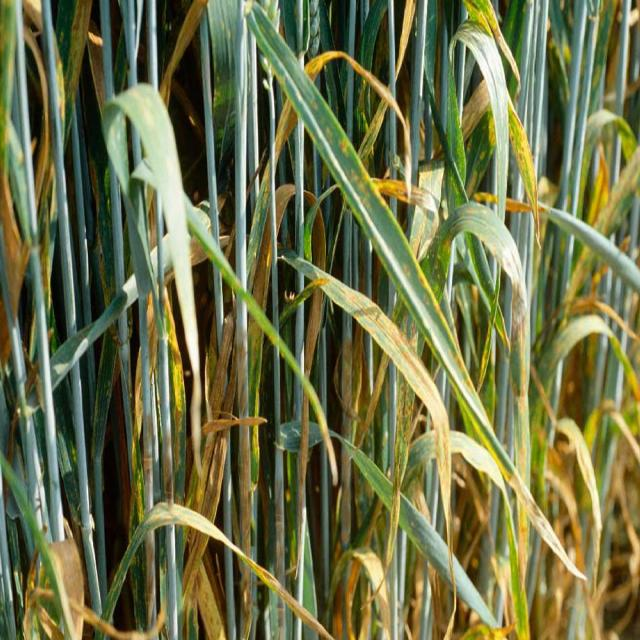wheat-septoria: (245, 1, 582, 582), (316, 270, 452, 528), (361, 364, 415, 610), (36, 521, 95, 640), (51, 0, 93, 155), (508, 92, 539, 250), (165, 288, 186, 504), (495, 252, 531, 346), (463, 107, 497, 198)
